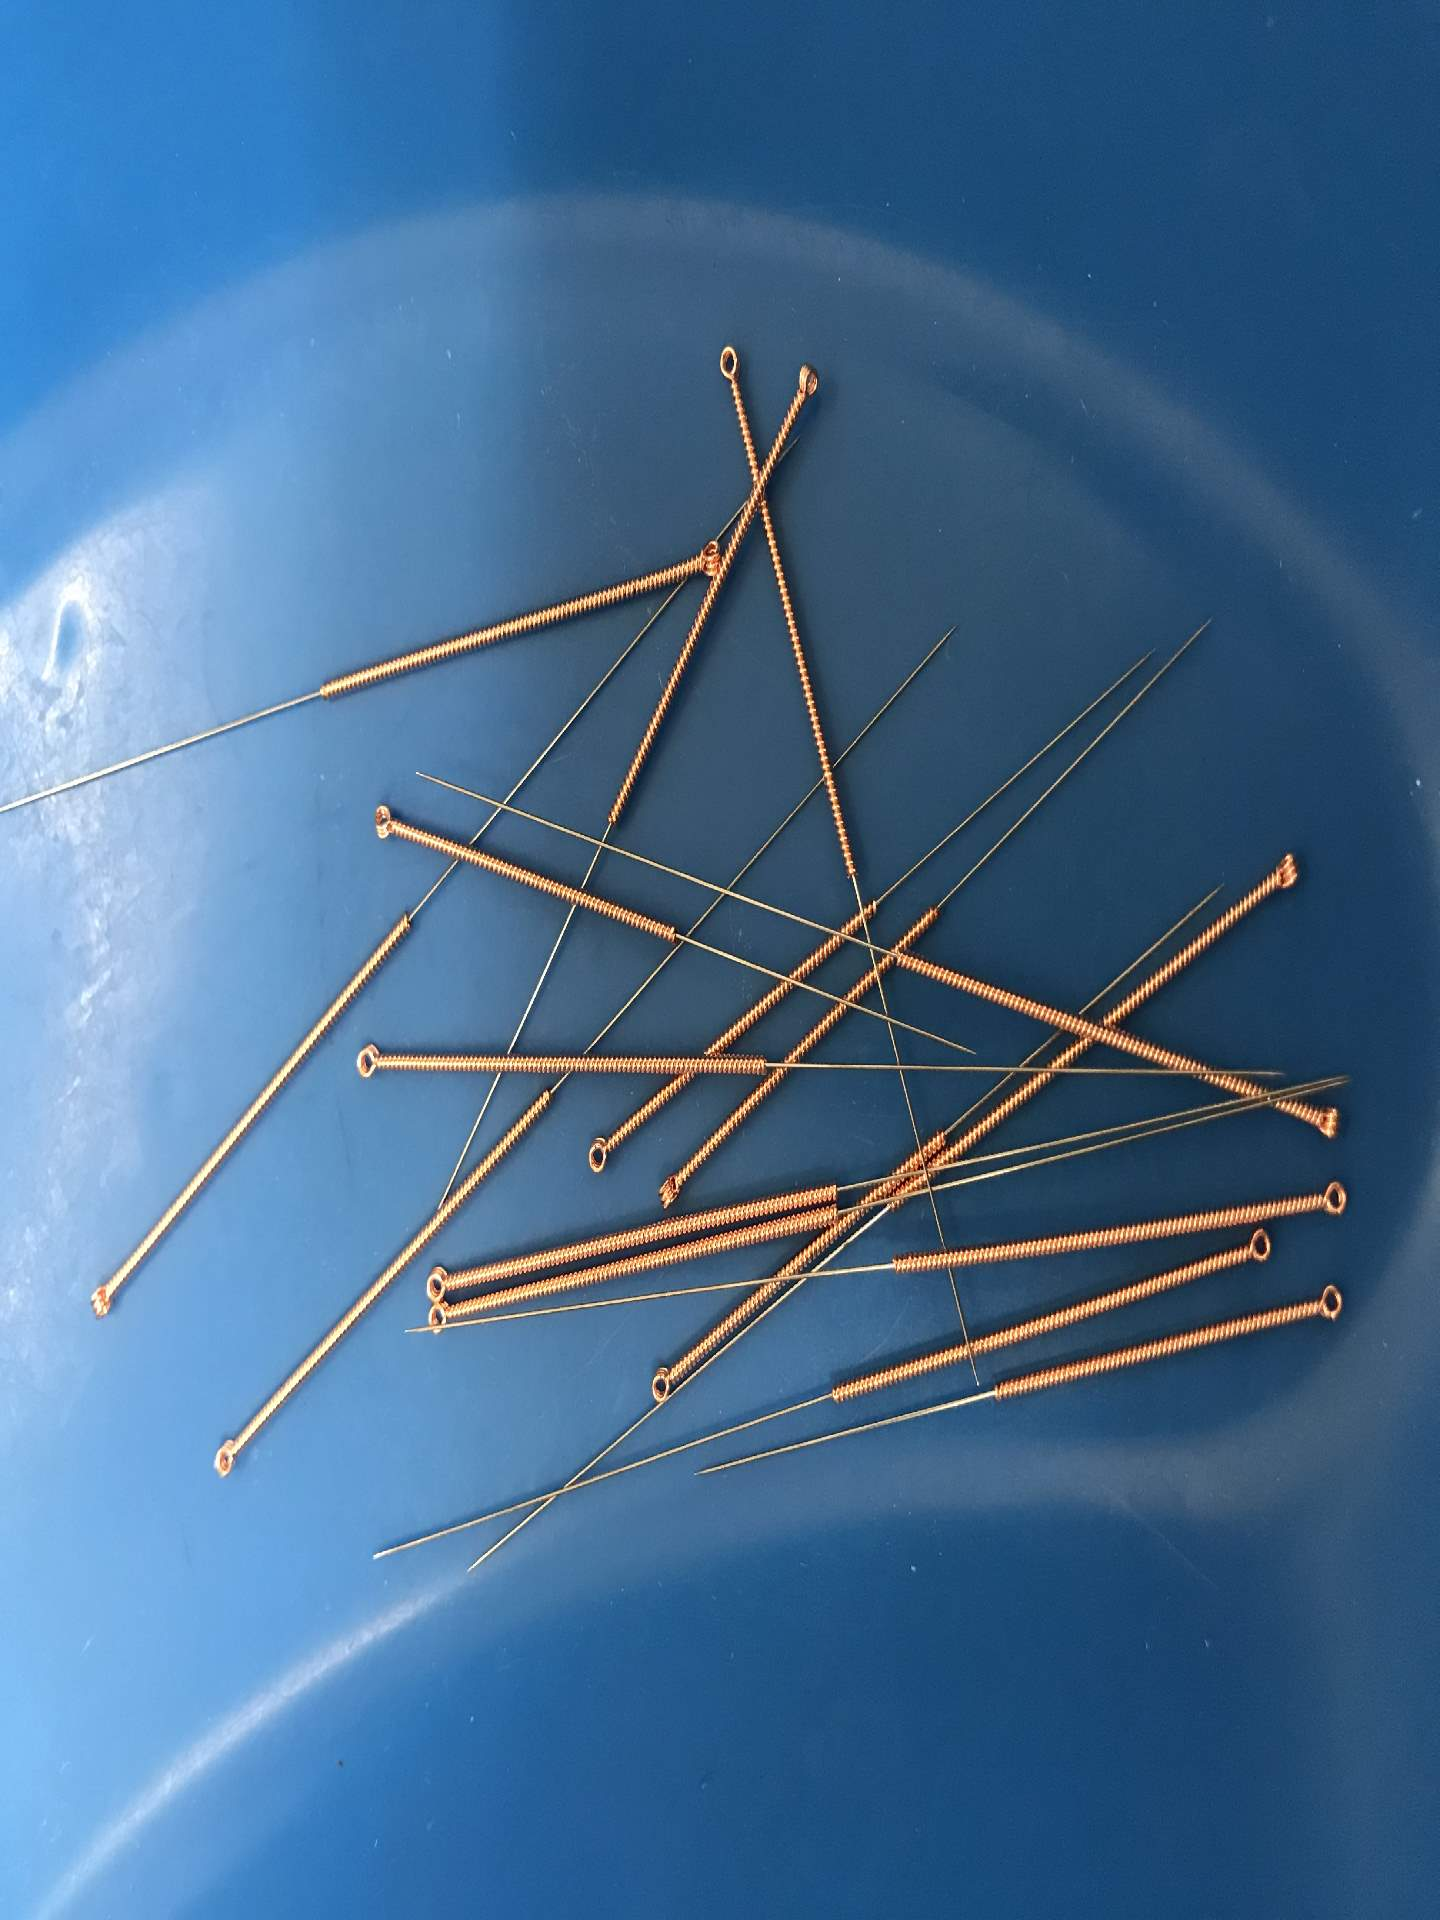needle: (1260, 841, 1305, 903), (1305, 1170, 1355, 1226), (345, 1034, 390, 1092), (203, 1429, 247, 1488), (1301, 1092, 1349, 1144), (1304, 1277, 1351, 1332), (640, 1358, 687, 1412), (362, 794, 407, 850), (785, 354, 827, 413), (77, 1274, 123, 1327), (706, 333, 749, 389), (675, 532, 723, 581), (644, 1163, 691, 1211), (576, 1129, 620, 1181), (1234, 1225, 1278, 1274), (414, 1261, 460, 1302), (419, 1302, 458, 1339)
